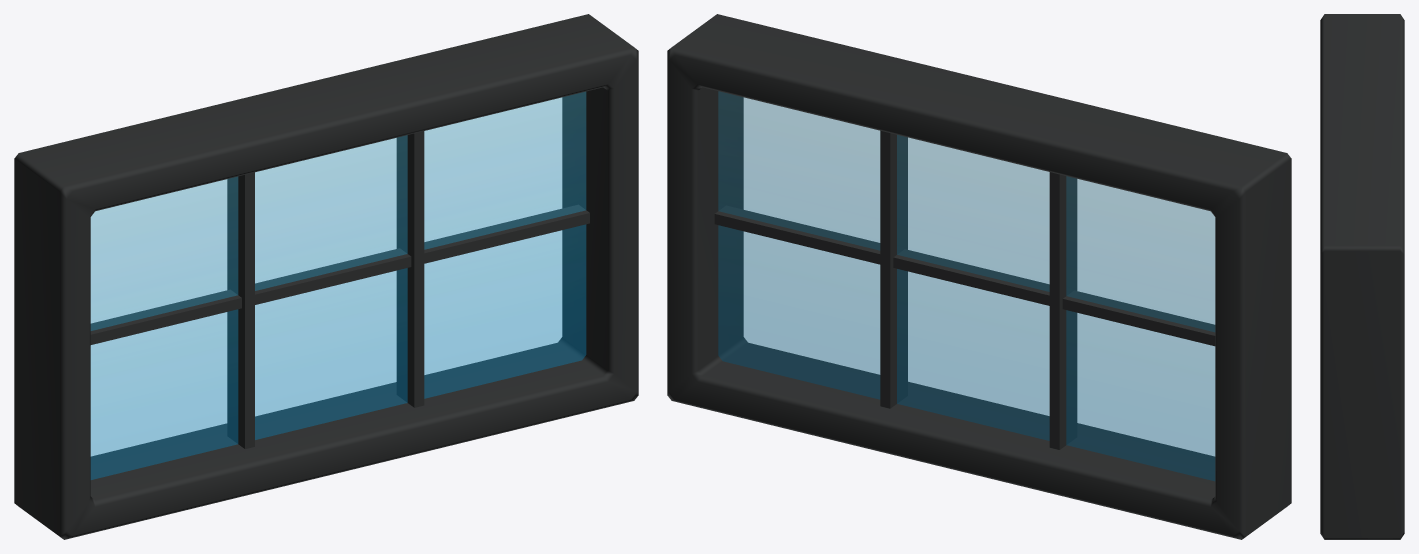
File: Window_Black_06.glb
3 renders of one model, left to right at view 1: azimuth 30°, elevation 25°; view 2: azimuth 150°, elevation 25°; view 3: azimuth 270°, elevation 25°, orthographic. The views are drawn at different scales.
Parts seen in each view (by area): view 1: Window_Black_06; view 2: Window_Black_06; view 3: Window_Black_06.
Boxes of the visible parts, x1=… form: Window_Black_06: x1=14, y1=14, x2=638, y2=539; Window_Black_06: x1=667, y1=14, x2=1291, y2=539; Window_Black_06: x1=1320, y1=14, x2=1404, y2=539.
Bounding box in the file's own units: 2.64 × 1.54 × 0.4.
Materials: 2 (2 with a texture image).
